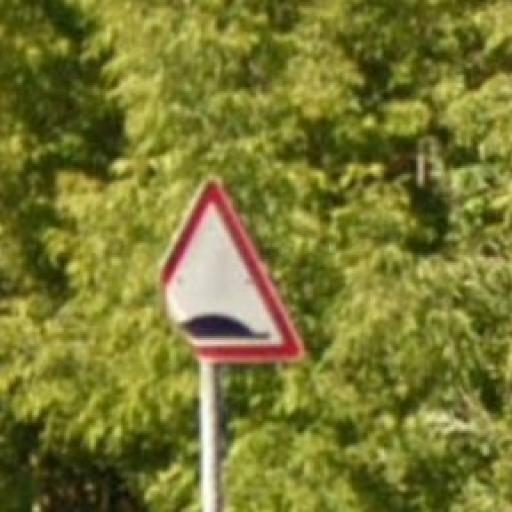traffic_sign: (159, 181, 305, 363)
